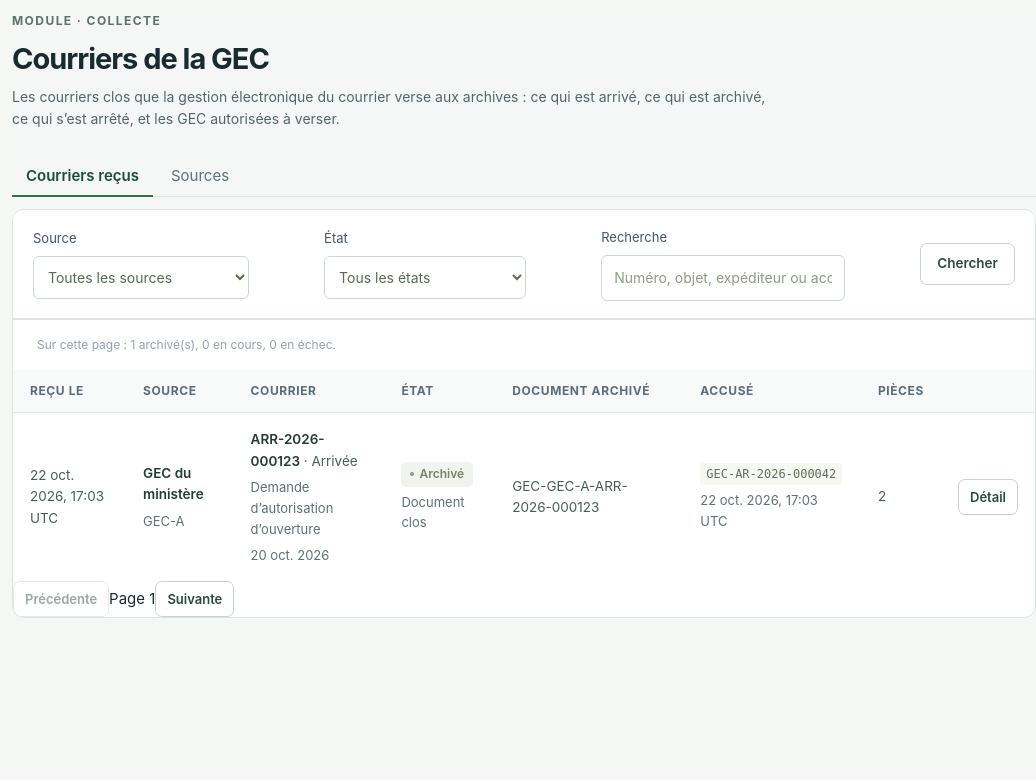
it: les pages se parcourent une à une : la suite n’est proposée que s’il y en a une
Expected: the text "ARR-2026-000123" is shown, [251, 431, 325, 469]
Expected: the button "Précédente" is disabled, [13, 582, 109, 618]
Step 1. Click the button "Suivante" → (195, 600), box [155, 582, 234, 618]
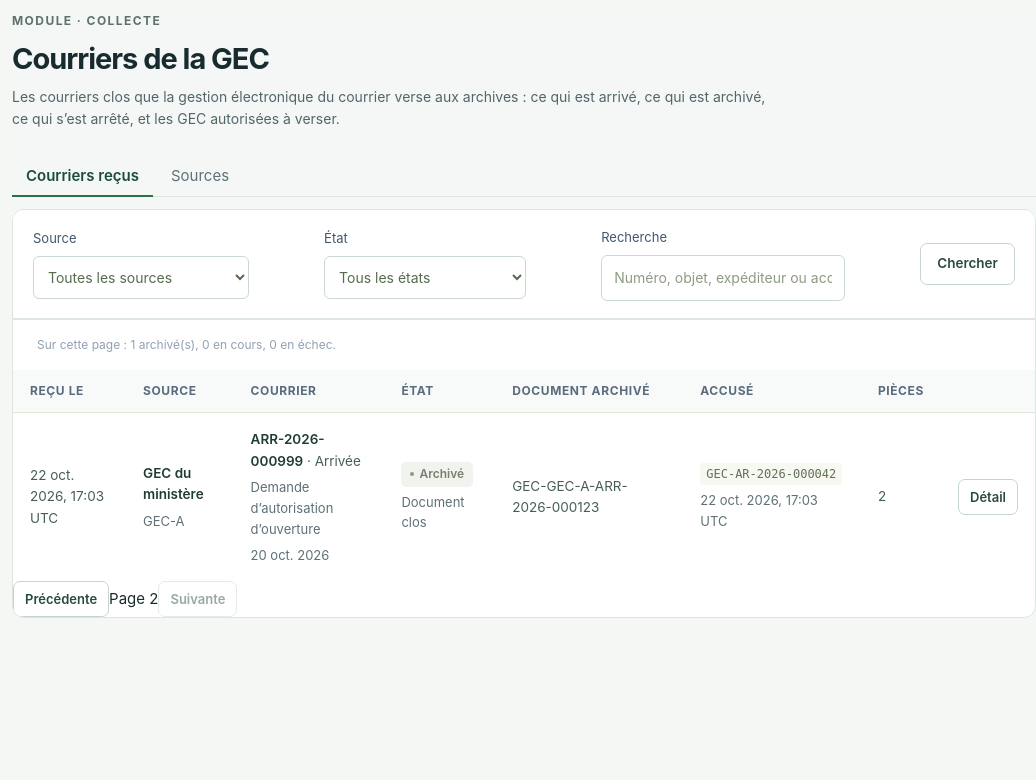
Expected: the text "ARR-2026-000999" is shown, [251, 431, 325, 469]
Expected: the button "Suivante" is disabled, [158, 582, 237, 618]
Expected: the button "Précédente" is enabled, [13, 582, 109, 618]
